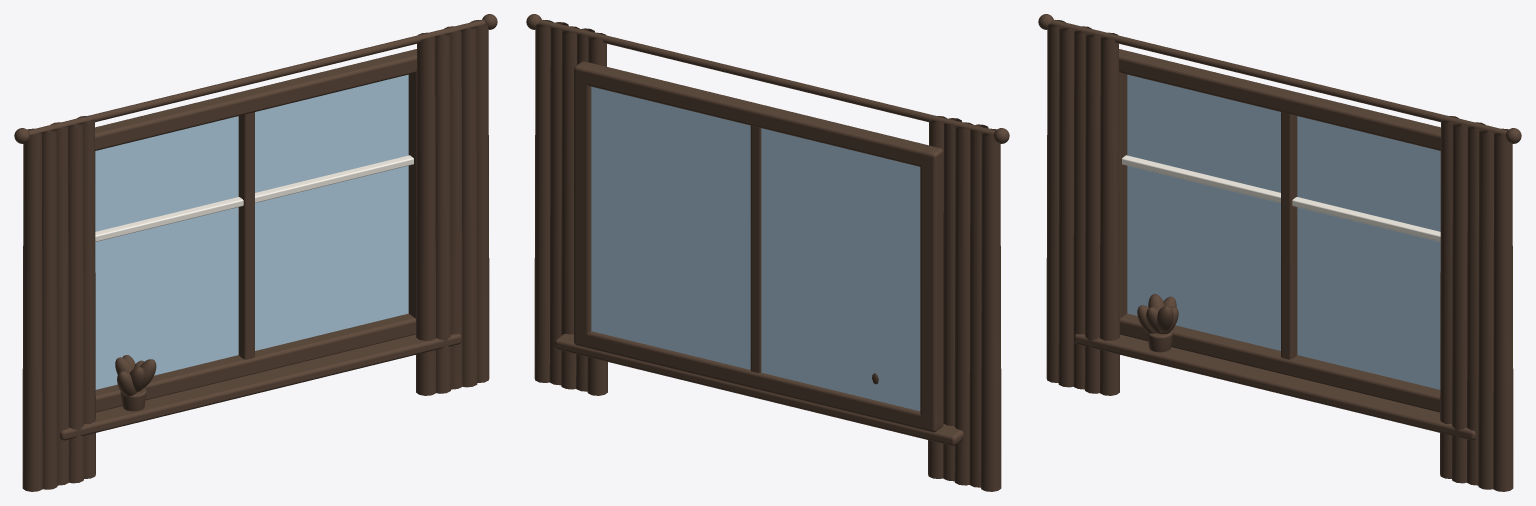
Rendered from window.glb.
3 views of the same model, side by side, from view 1: azimuth 30°, elevation 25°; view 2: azimuth 150°, elevation 25°; view 3: azimuth 330°, elevation 25° (orthographic).
Visible parts, largest first — view 1: window; view 2: window; view 3: window.
Part boxes in pixels (x1,y1,x2,y2): window: [14, 14, 497, 491]; window: [526, 14, 1009, 491]; window: [1038, 14, 1521, 491].
Bounding box in the file's own units: 2.27 × 1.63 × 0.18.
